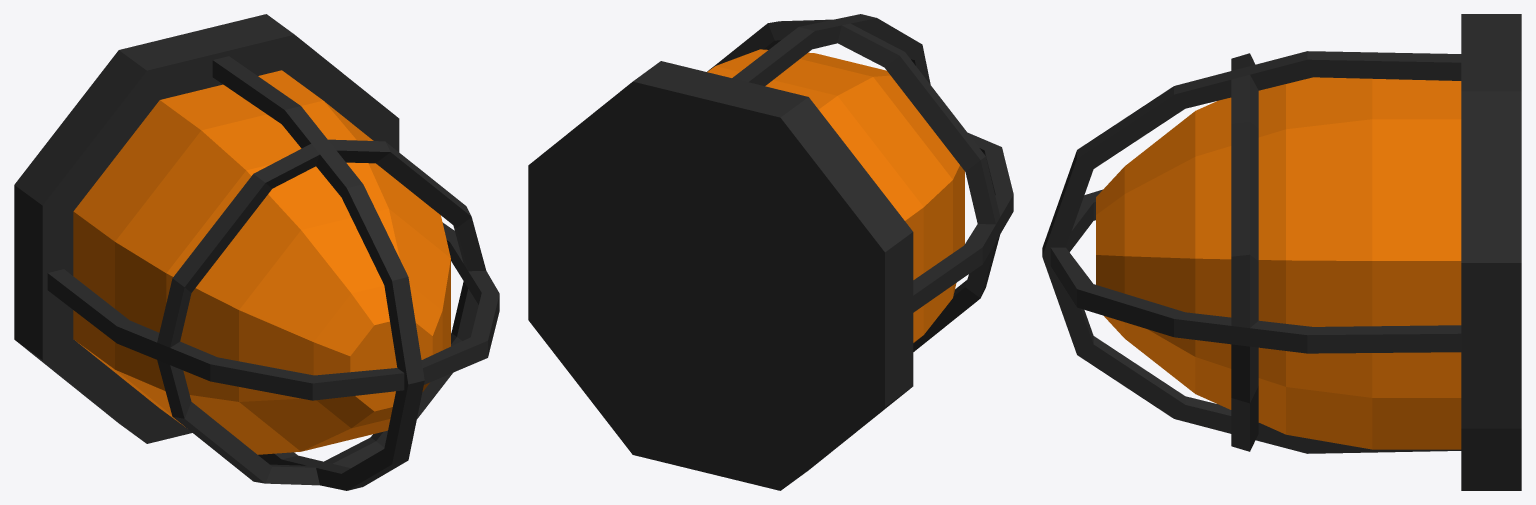
Rendered from Light_03.fbx.
3 renders of one model, left to right at view 1: azimuth 30°, elevation 25°; view 2: azimuth 150°, elevation 25°; view 3: azimuth 270°, elevation 25°, orthographic. The views are drawn at different scales.
Visible parts, largest first — view 1: Light_03; view 2: Light_03; view 3: Light_03.
Part boxes in pixels (x1,y1,x2,y2): Light_03: (14,14,499,490); Light_03: (528,14,1013,490); Light_03: (1042,14,1521,490).
Bounding box in the file's own units: 22.14 × 22.14 × 24.07.
